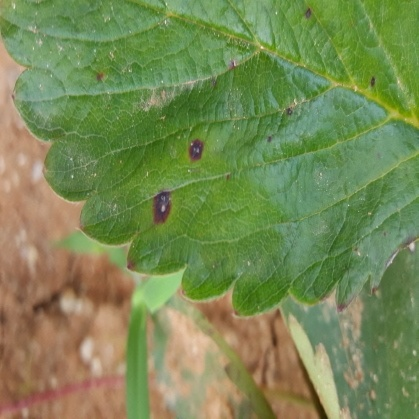Leaf_Spot: (0, 102, 418, 418)
